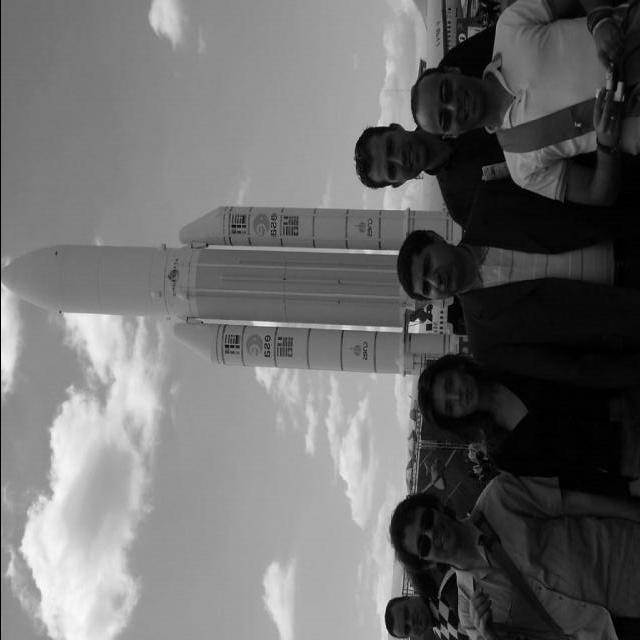missile: (0, 237, 465, 327), (167, 201, 439, 259), (167, 326, 463, 377)
